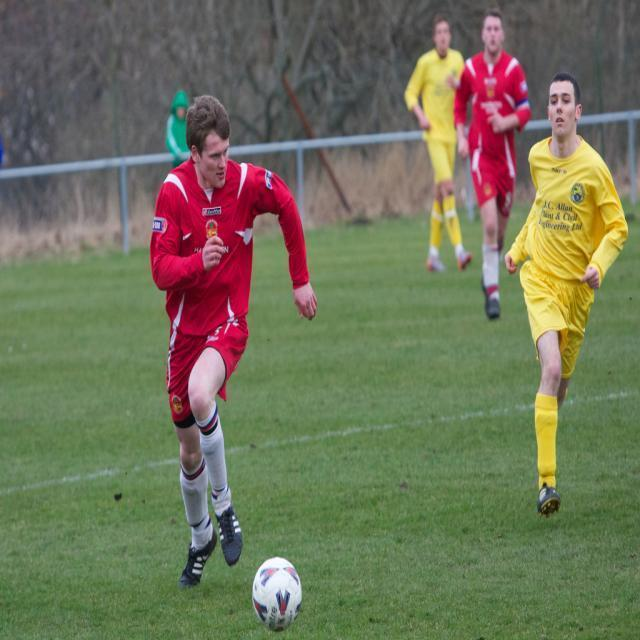ball: (250, 557, 303, 631)
